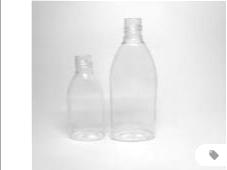bottle: (108, 17, 160, 144), (66, 55, 106, 142)
